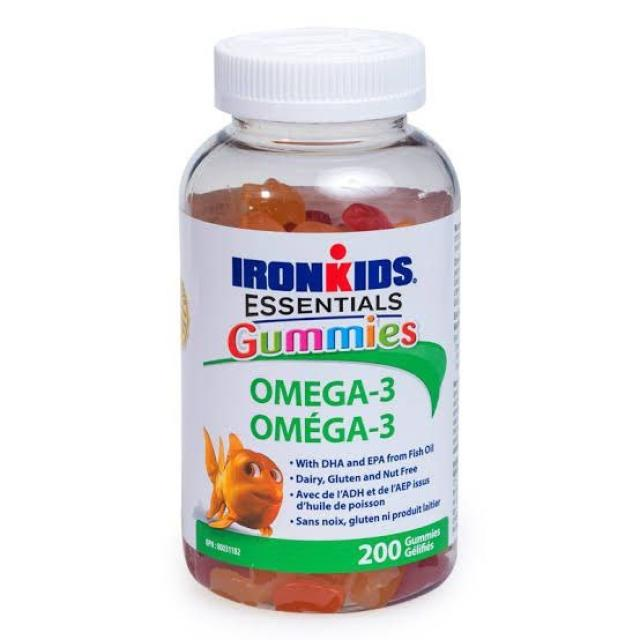food-supliment: (186, 176, 448, 584)
